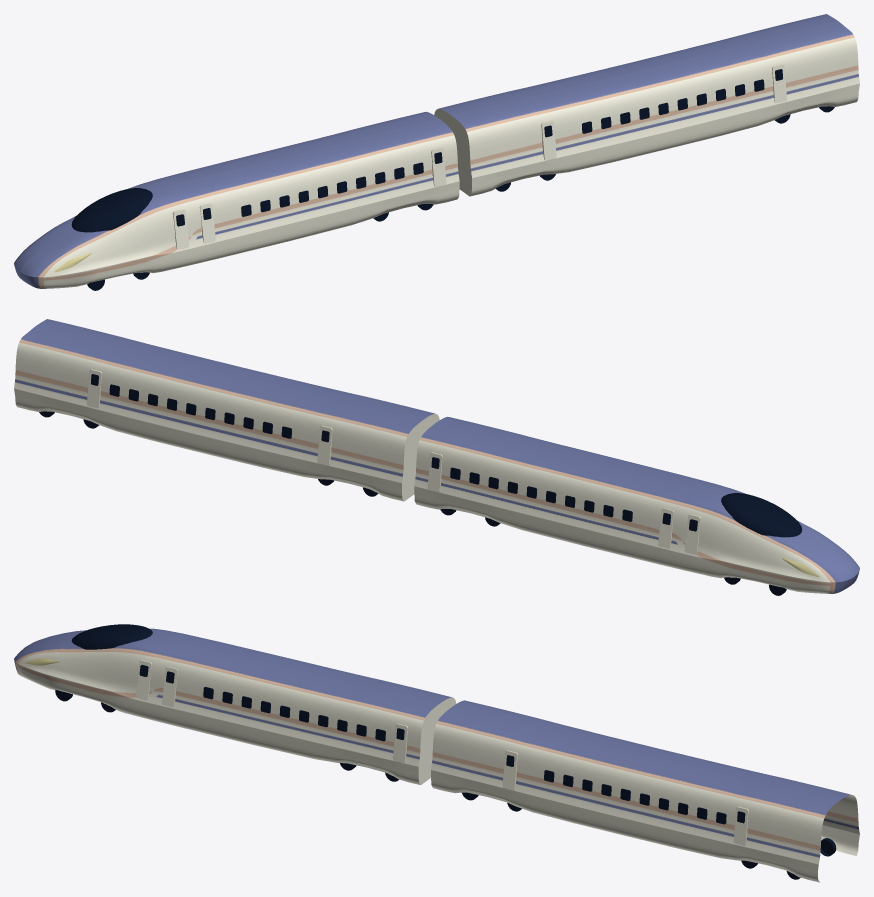
File: hakutaka4.fbx
The picture shows the model from 3 angles, top to bottom: view 1: azimuth 30°, elevation 25°; view 2: azimuth 150°, elevation 25°; view 3: azimuth 330°, elevation 25°; orthographic projection.
Visible parts, largest first — view 1: group1_pCube27; view 2: group1_pCube27; view 3: group1_pCube27.
Part boxes in pixels (left/top/right/bottom): group1_pCube27: left=14, top=14, right=859, bottom=290; group1_pCube27: left=14, top=319, right=859, bottom=595; group1_pCube27: left=14, top=624, right=859, bottom=882.
Size of the model in its own units: 759 by 64.17 by 68.44.
